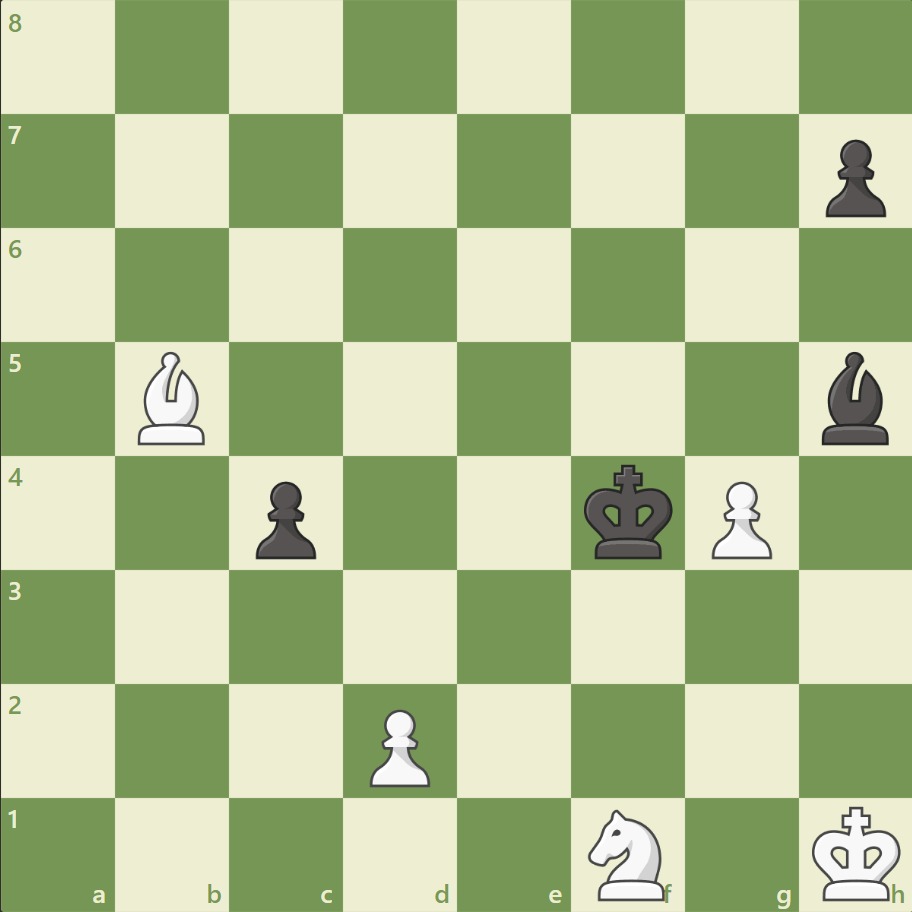B: (131, 347, 215, 449)
K: (806, 798, 906, 906)
N: (579, 802, 676, 904)
P: (701, 473, 776, 564), (361, 700, 435, 791)
b: (812, 347, 896, 449)
k: (579, 458, 679, 566)
p: (247, 473, 322, 564), (815, 132, 889, 223)
